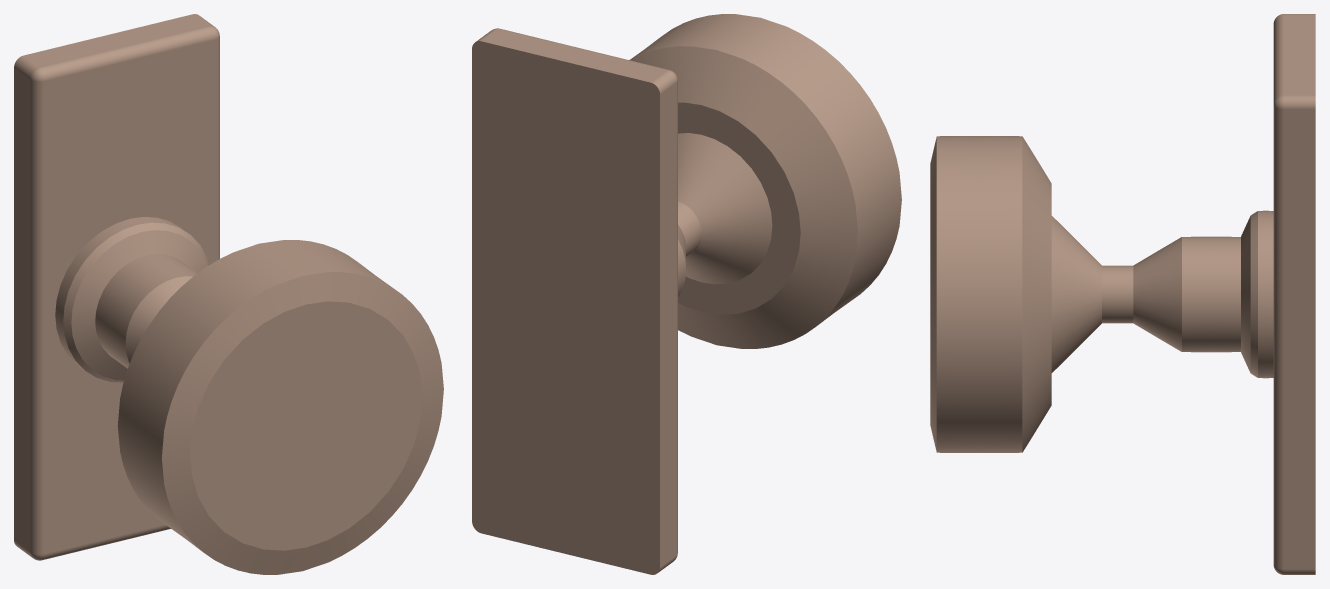
Rendered from 029_ドアノブ.glb.
3 views of the same model, side by side, from view 1: azimuth 30°, elevation 25°; view 2: azimuth 150°, elevation 25°; view 3: azimuth 270°, elevation 25° (orthographic). The views are drawn at different scales.
Parts seen in each view (by area): view 1: Body; view 2: Body; view 3: Body.
Boxes of the visible parts, left/top/right/bottom form: Body: left=14, top=14, right=443, bottom=574; Body: left=472, top=14, right=901, bottom=574; Body: left=930, top=14, right=1315, bottom=574.
Size of the model in its own units: 0.06 by 0.1 by 0.073.
